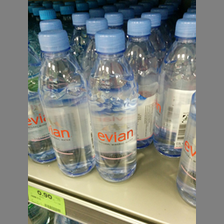water: (35, 27, 96, 178), (88, 28, 139, 183), (151, 18, 195, 156)
